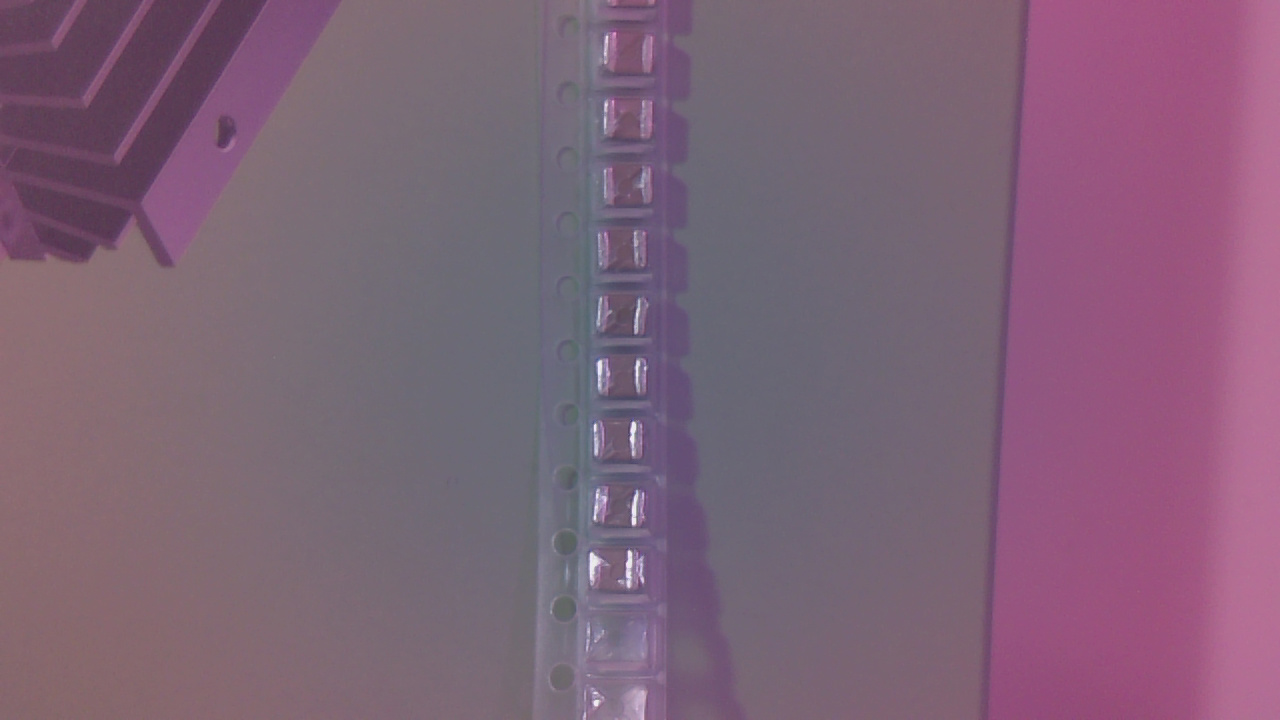Condensator: (593, 551, 651, 597), (605, 100, 660, 145), (596, 487, 651, 531), (607, 167, 658, 214), (601, 361, 654, 403), (597, 422, 646, 465), (598, 300, 652, 339), (609, 37, 659, 78), (601, 234, 652, 272)
